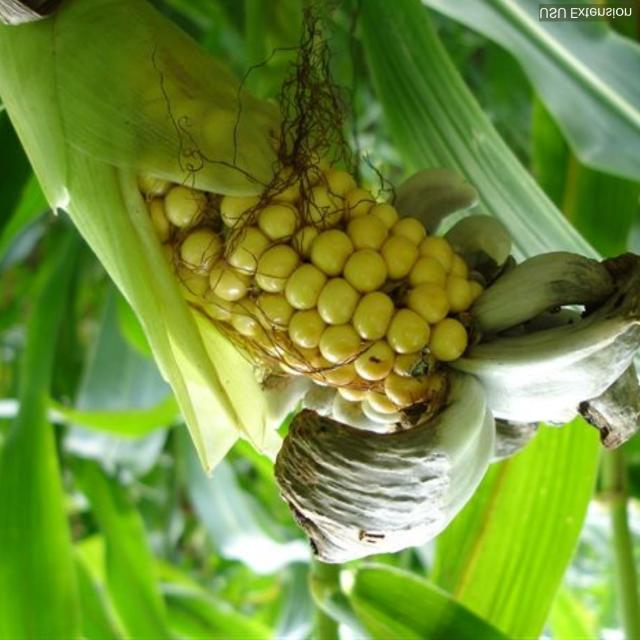Leaf_Scald: (156, 58, 640, 591)
